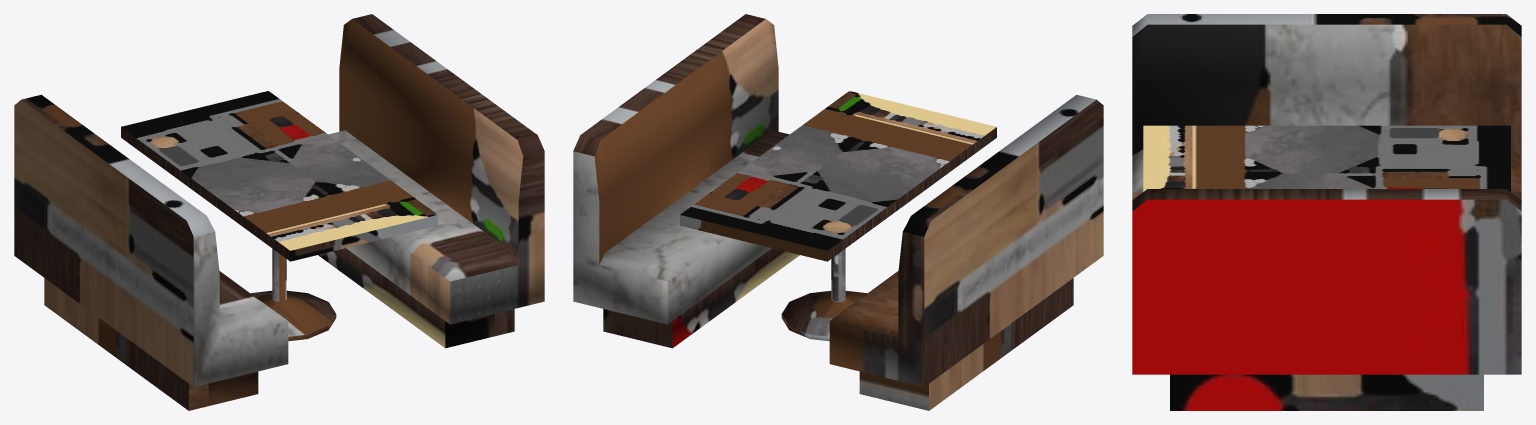
The model's file is diner-booth.glb.
3 views of the same model, side by side, from view 1: azimuth 30°, elevation 25°; view 2: azimuth 150°, elevation 25°; view 3: azimuth 270°, elevation 25° (orthographic). The views are drawn at different scales.
Visible parts, largest first — view 1: SM_Tables_Restaurant_0; view 2: SM_Tables_Restaurant_0; view 3: SM_Tables_Restaurant_0.
Part boxes in pixels (box(x1,y1,x2,y2)): SM_Tables_Restaurant_0: box(14, 14, 544, 410); SM_Tables_Restaurant_0: box(573, 14, 1103, 410); SM_Tables_Restaurant_0: box(1132, 14, 1521, 410).
Size of the model in its own units: 2.8 by 1.53 by 2.48.
1 material, 1 textured.
